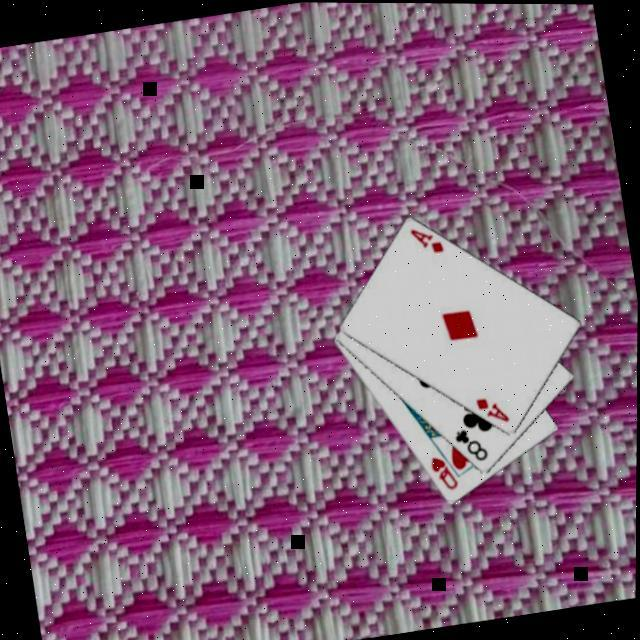8C: (452, 423, 494, 468)
AD: (475, 392, 516, 429), (408, 222, 449, 259)
QH: (429, 451, 465, 495)
